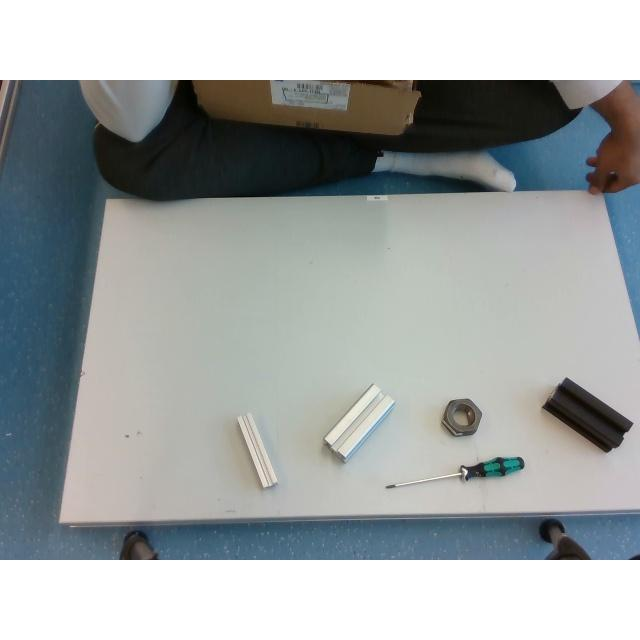F20_20_G: (237, 413, 277, 487)
M30: (441, 398, 481, 436)
S40_40_B: (542, 378, 630, 452)
S40_40_G: (324, 384, 394, 461)
Screwdriver: (384, 457, 524, 488)
